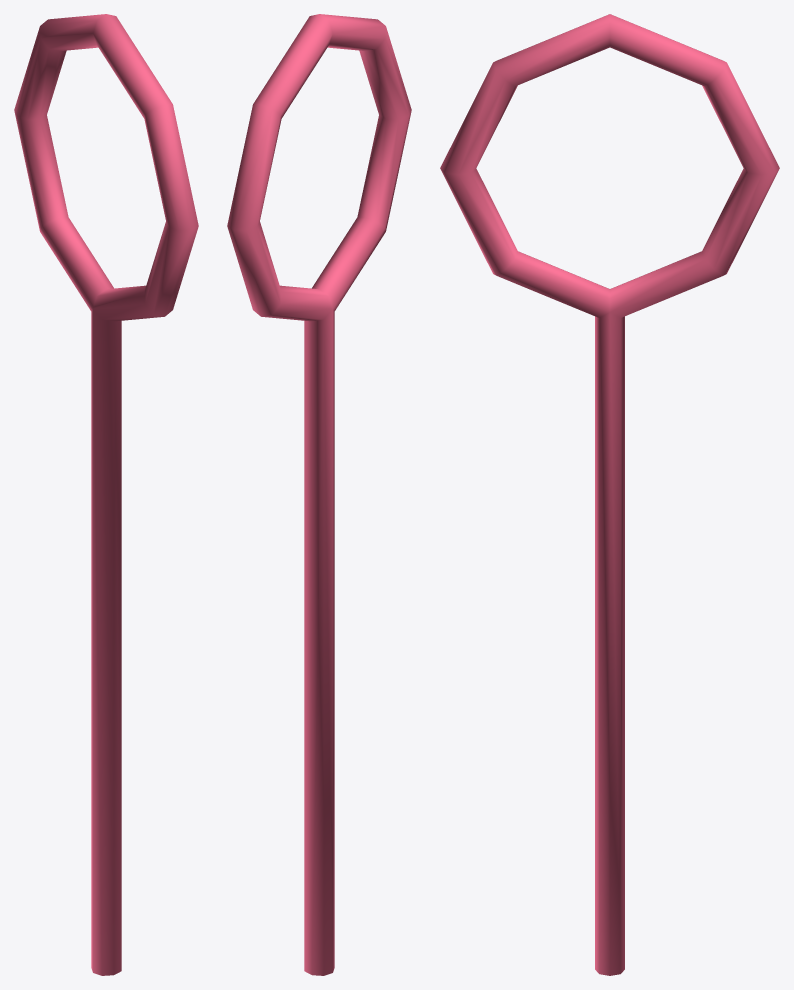
Rendered from Bubble_Wand.fbx.
3 renders of one model, left to right at view 1: azimuth 30°, elevation 25°; view 2: azimuth 150°, elevation 25°; view 3: azimuth 270°, elevation 25°, orthographic.
Visible parts, largest first — view 1: Circle; view 2: Circle; view 3: Circle.
Part boxes in pixels (box(x1,y1,x2,y2)): Circle: box(14, 14, 198, 975); Circle: box(227, 14, 411, 975); Circle: box(440, 14, 779, 975).
Bounding box in the file's own units: 4.74 × 161 × 51.92.
